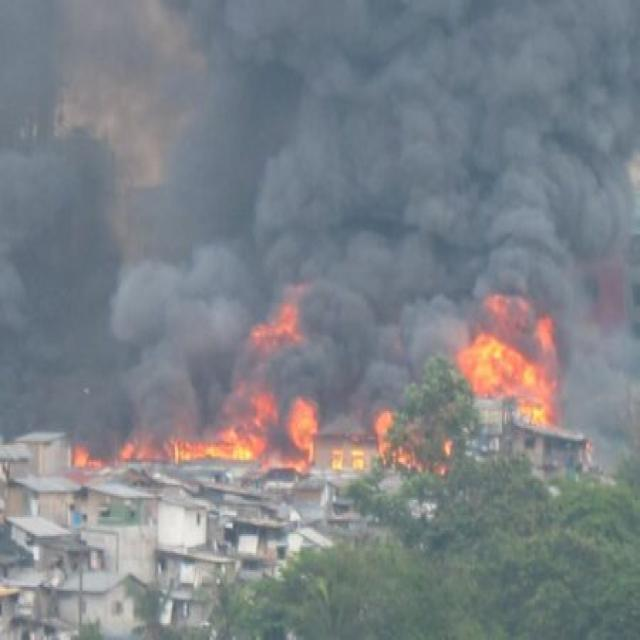Fire: (462, 281, 578, 428), (238, 297, 322, 465), (83, 436, 268, 480)
Smoke: (217, 0, 640, 336), (12, 188, 223, 437), (332, 334, 392, 416)
